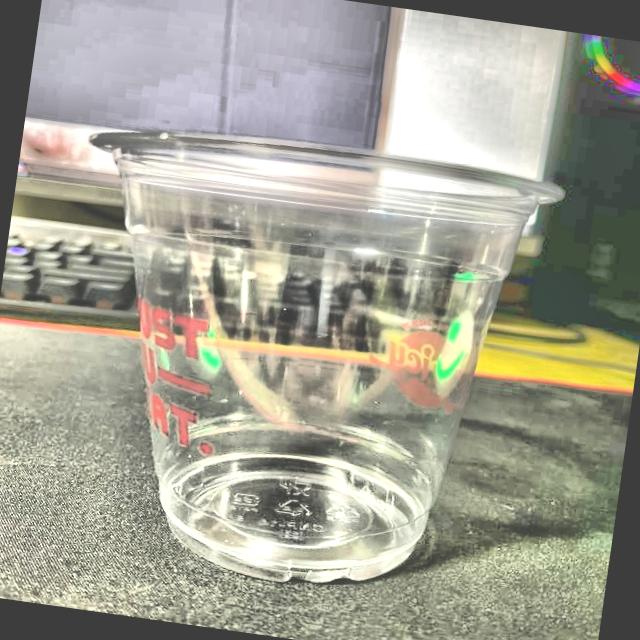plastic cup: (30, 109, 569, 618)
